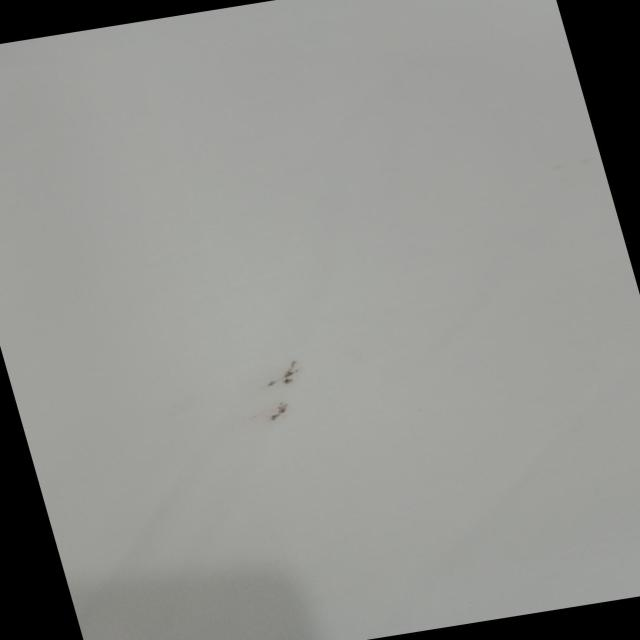stain: (244, 350, 323, 430)
